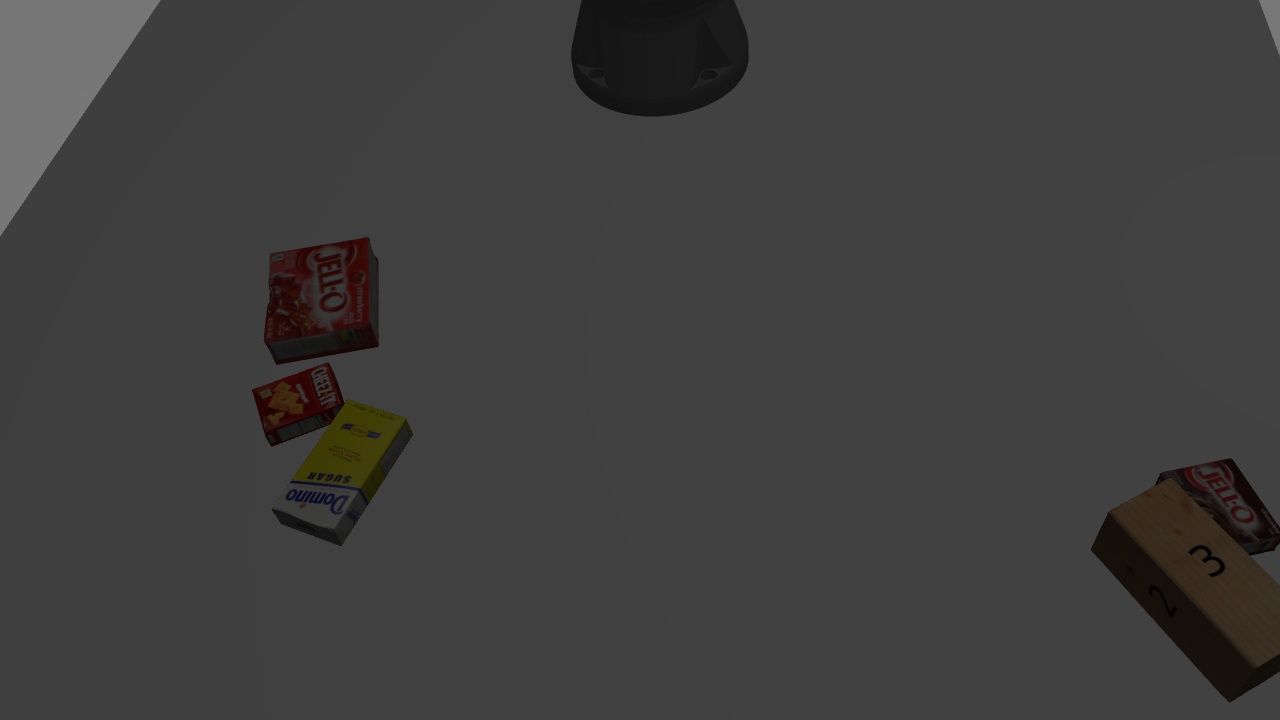cracker_box: (1154, 458, 1278, 557)
wood_block: (1084, 477, 1276, 698)
